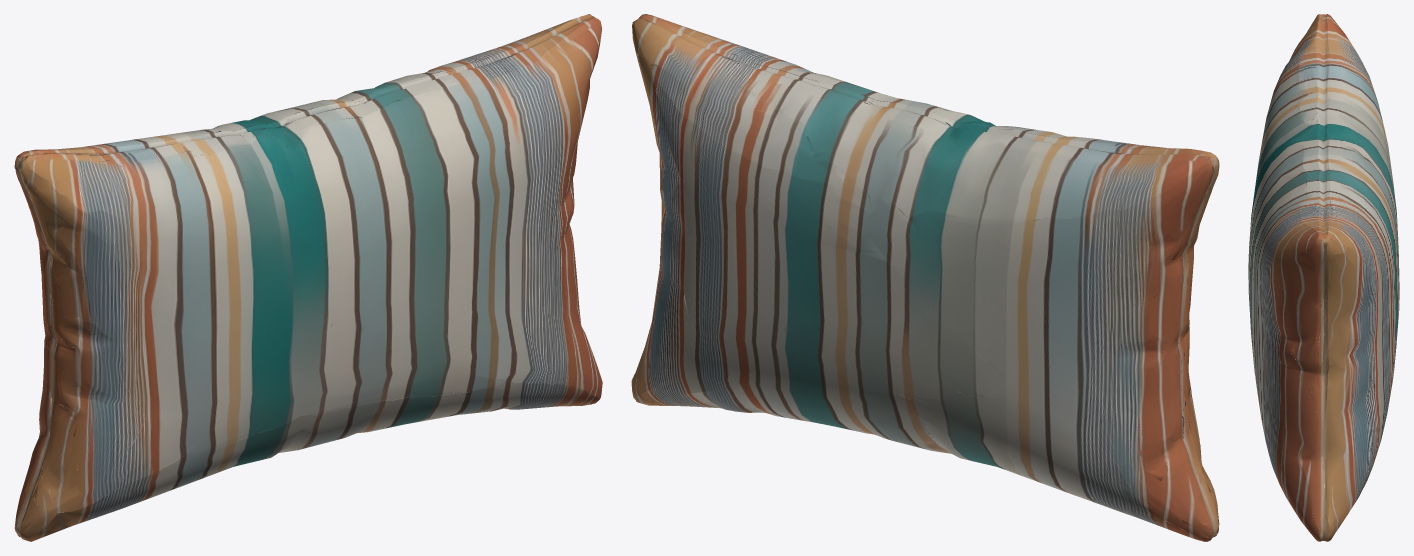
File: cushion-striped.glb
3 views of the same model, side by side, from view 1: azimuth 30°, elevation 25°; view 2: azimuth 150°, elevation 25°; view 3: azimuth 270°, elevation 25° (orthographic). The views are drawn at different scales.
Visible parts, largest first — view 1: material; view 2: material; view 3: material.
Part boxes in pixels (<box>): material: <box>14,14,602,541</box>; material: <box>631,14,1219,541</box>; material: <box>1248,14,1399,541</box>.
Bounding box in the file's own units: 1.03 × 0.6494 × 0.2895.
1 material, 1 textured.
